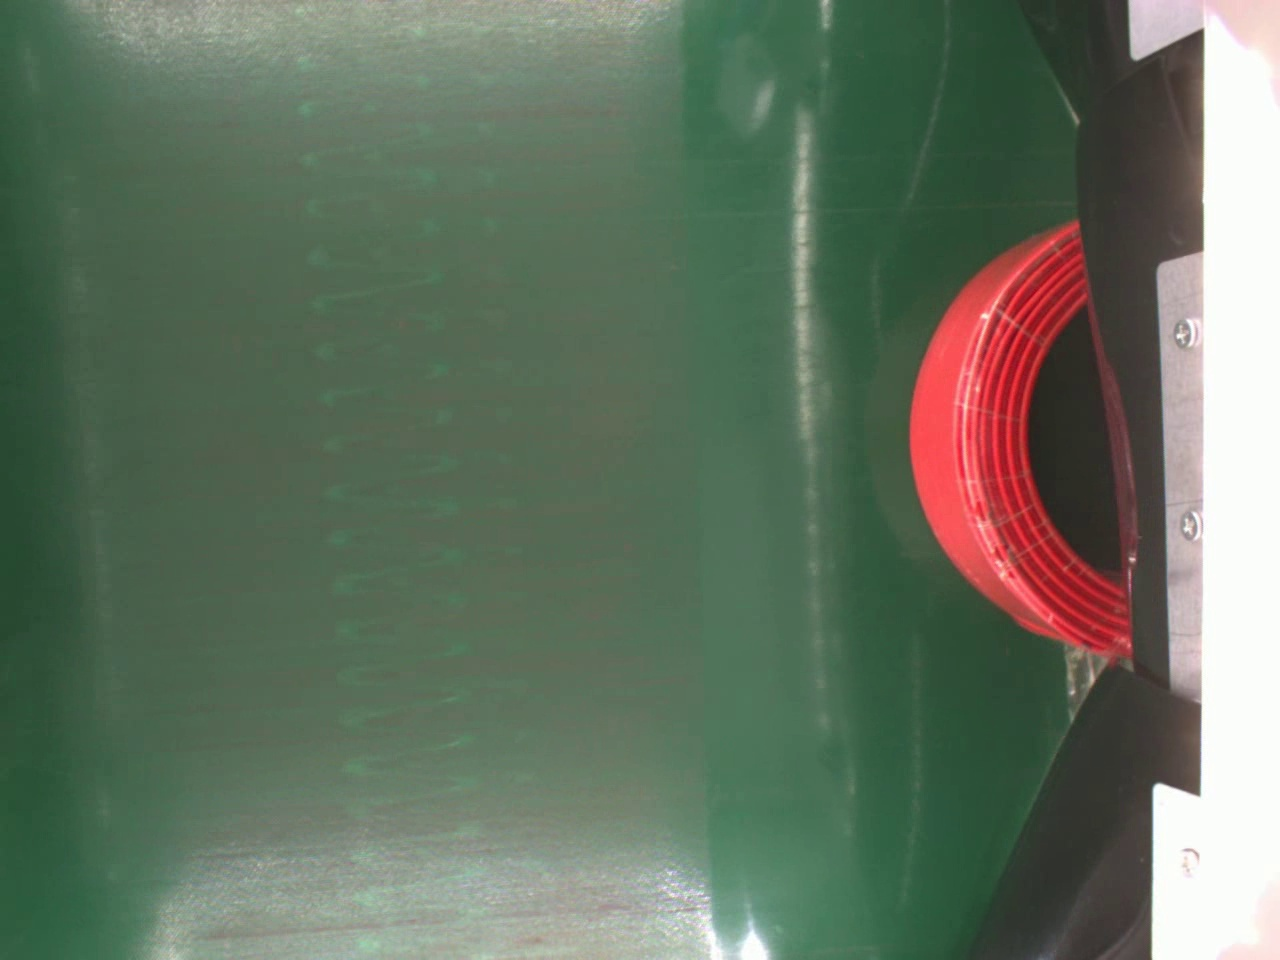red: (903, 219, 1134, 657)
